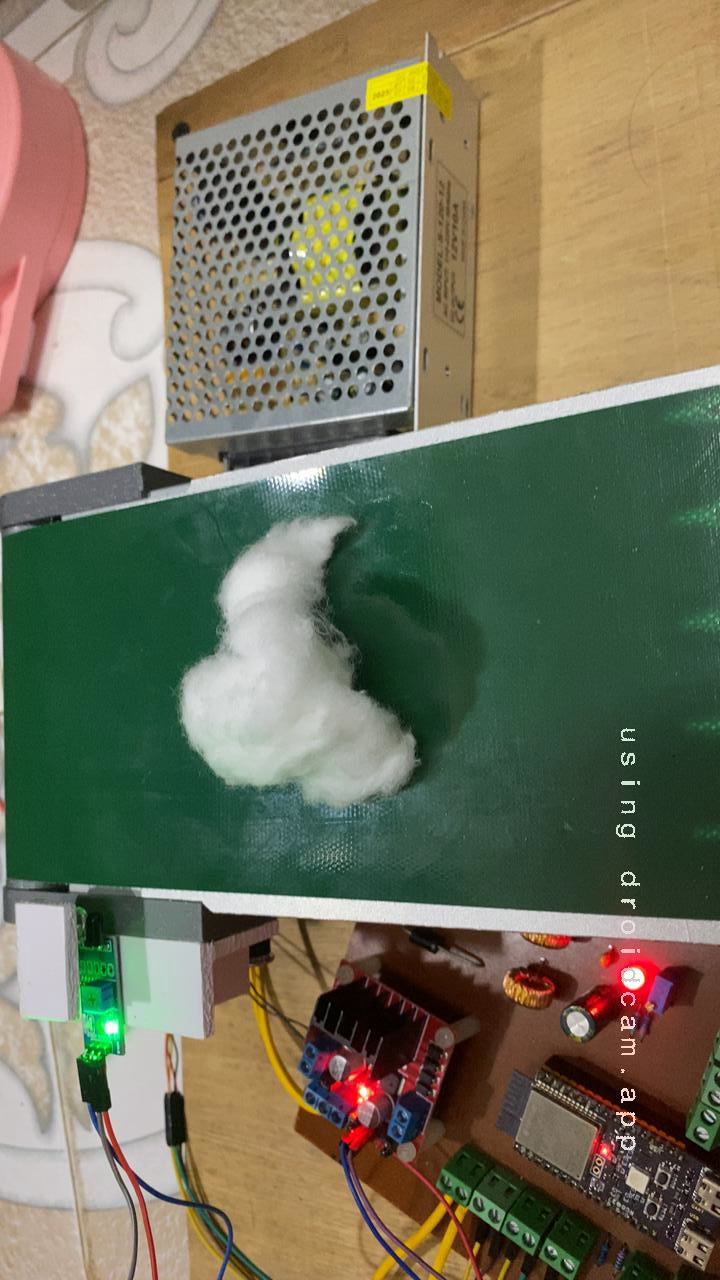cotton: (138, 488, 448, 837)
